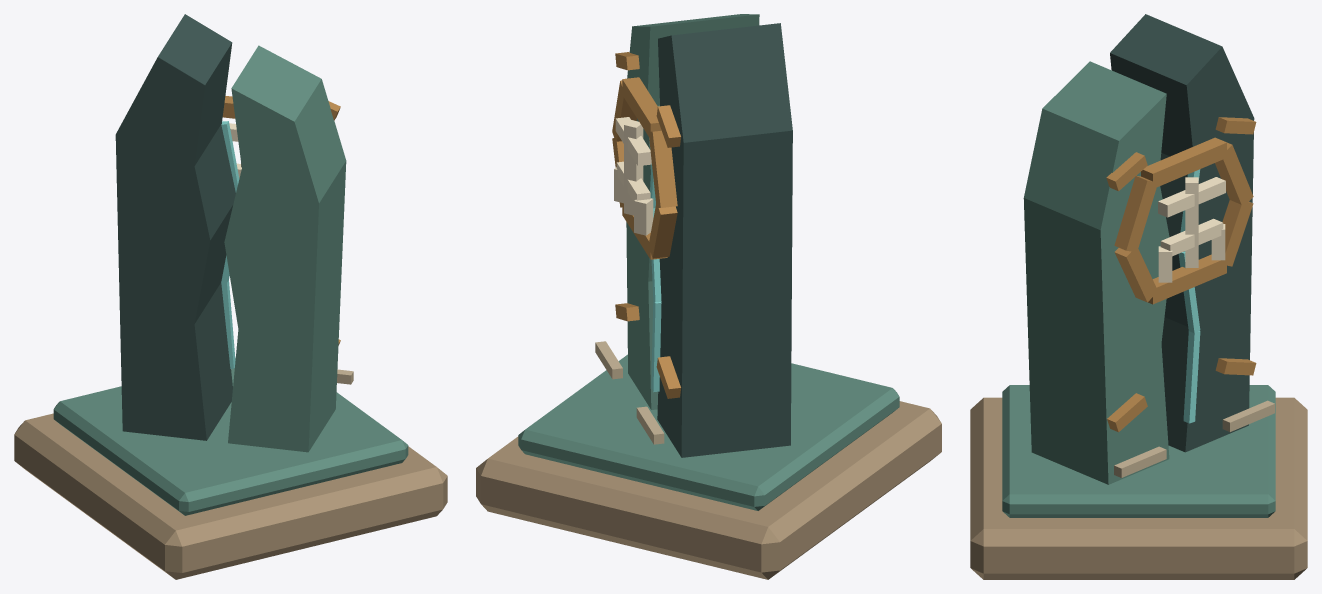
Rendered from Tower_StoneSealL1.fbx.
The picture shows the model from 3 angles, left to right: view 1: azimuth 30°, elevation 25°; view 2: azimuth 150°, elevation 25°; view 3: azimuth 270°, elevation 25°; orthographic projection. The views are drawn at different scales.
Visible parts, largest first — view 1: Tower_StoneSealL1; view 2: Tower_StoneSealL1; view 3: Tower_StoneSealL1.
Part boxes in pixels (x1,y1,x2,y2): Tower_StoneSealL1: [14, 14, 447, 579]; Tower_StoneSealL1: [476, 14, 941, 579]; Tower_StoneSealL1: [970, 14, 1307, 579].
Bounding box in the file's own units: 0.9 × 1.37 × 0.9.
